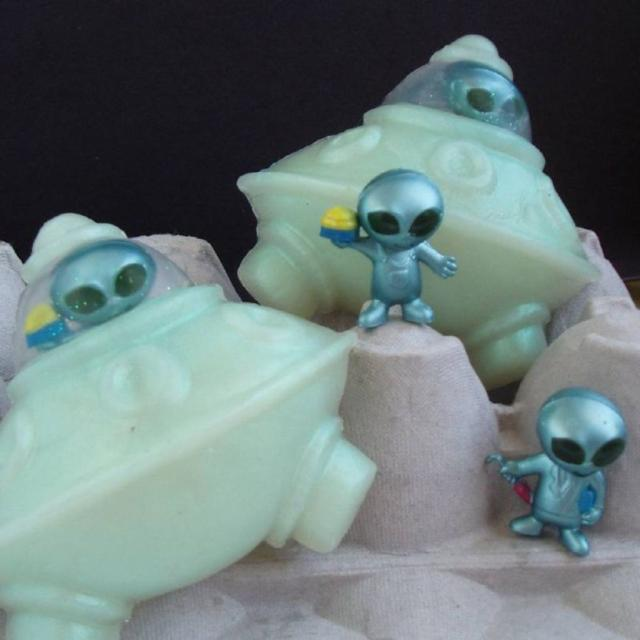Toy: (0, 210, 379, 640), (233, 32, 606, 394), (482, 388, 625, 560), (320, 167, 458, 331)
